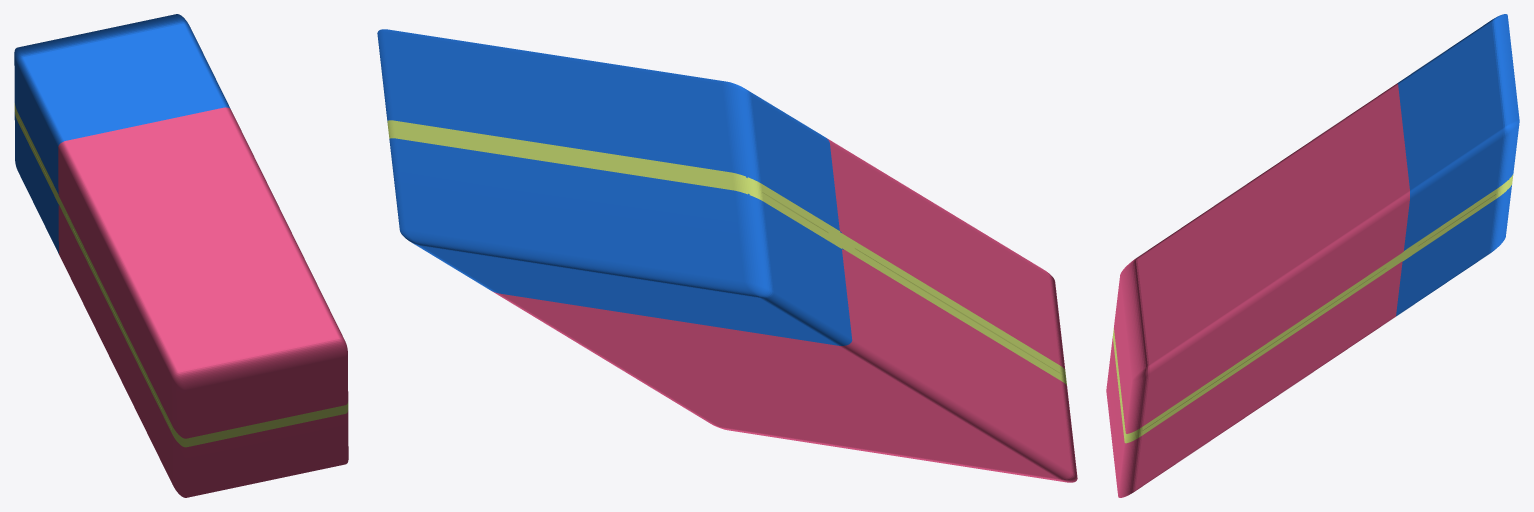
Rendered from Erasor.fbx.
3 views of the same model, side by side, from view 1: azimuth 30°, elevation 25°; view 2: azimuth 150°, elevation 25°; view 3: azimuth 270°, elevation 25° (orthographic). The views are drawn at different scales.
Visible parts, largest first — view 1: Cube.001; view 2: Cube.001; view 3: Cube.001.
Part boxes in pixels (x1,y1,x2,y2): Cube.001: (14,14,348,497); Cube.001: (377,29,1077,482); Cube.001: (1106,14,1519,497).
Bounding box in the file's own units: 96.45 × 166 × 159.
